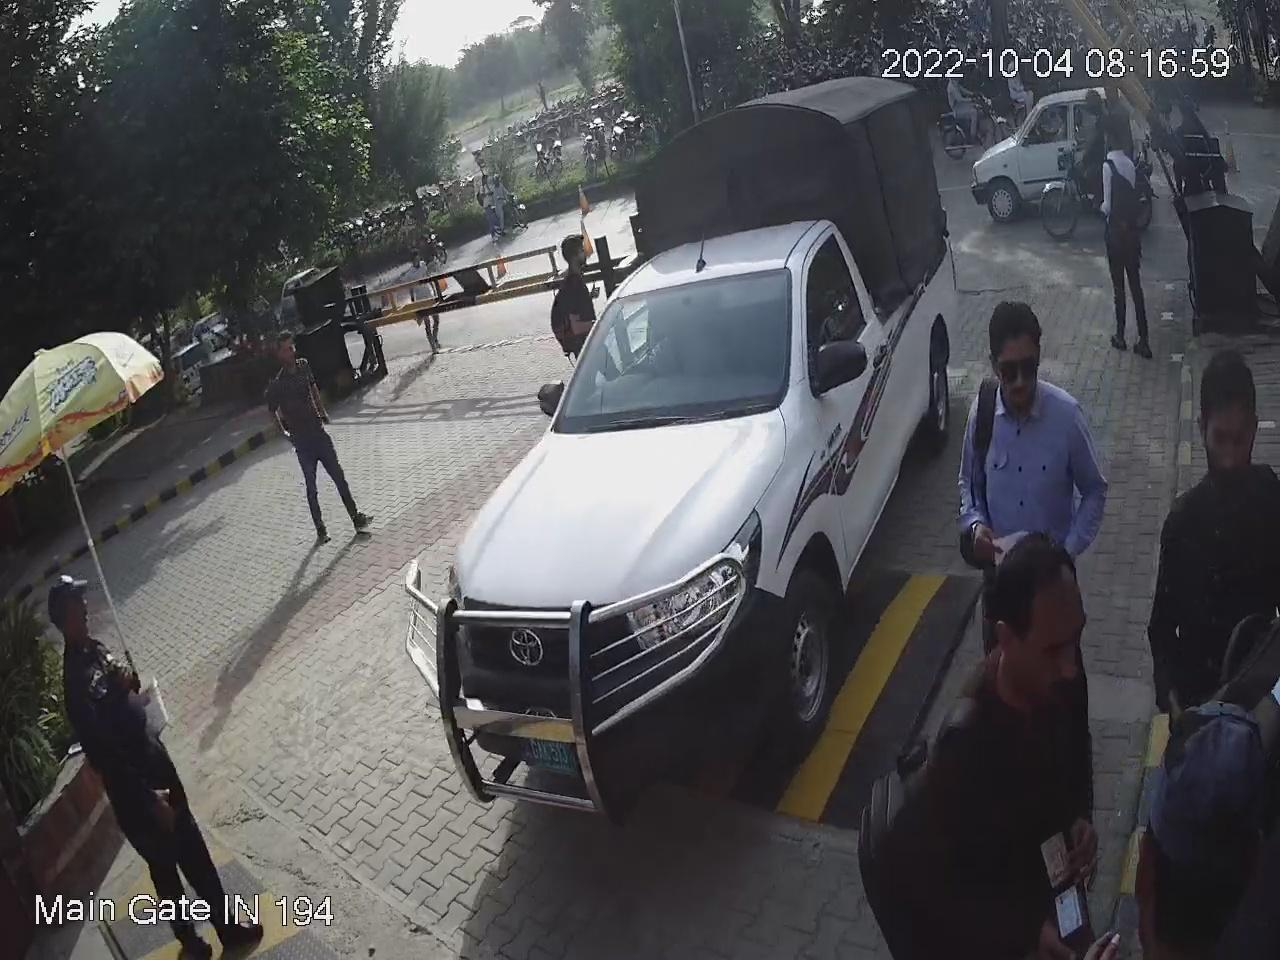windshield: (543, 262, 790, 428)
